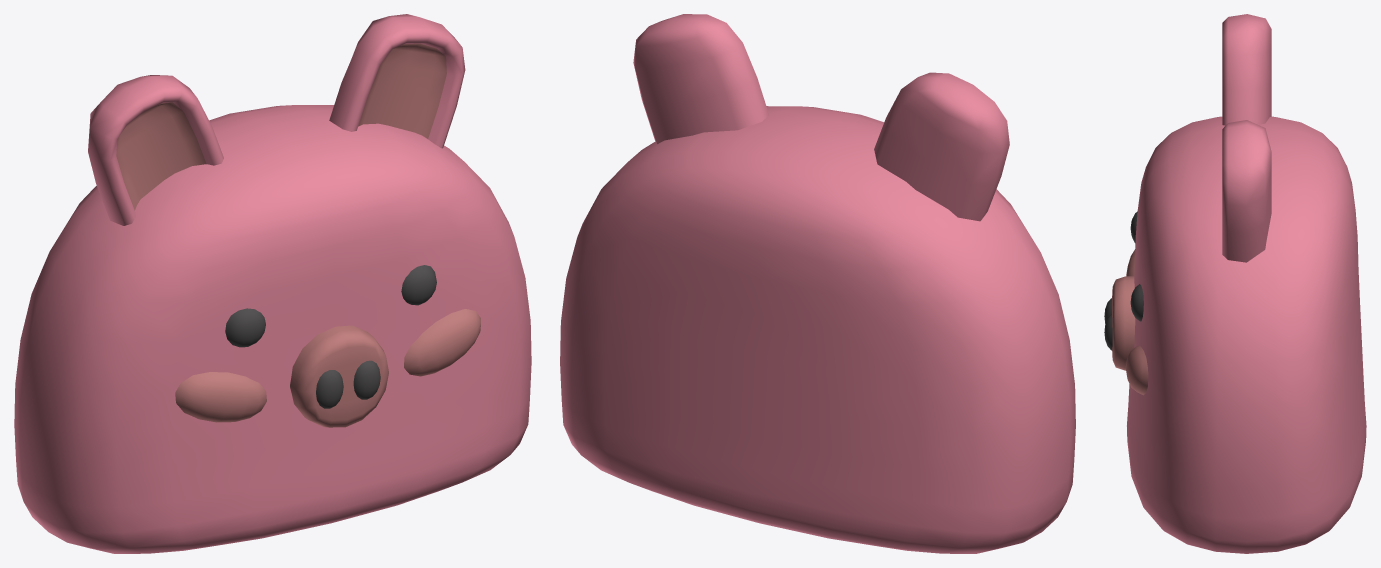
The model's file is Toy_Pig.glb.
3 renders of one model, left to right at view 1: azimuth 30°, elevation 25°; view 2: azimuth 150°, elevation 25°; view 3: azimuth 270°, elevation 25°, orthographic. The views are drawn at different scales.
Visible parts, largest first — view 1: Toy_Pig; view 2: Toy_Pig; view 3: Toy_Pig.
Part boxes in pixels (x1,y1,x2,y2): Toy_Pig: (14,14,531,553); Toy_Pig: (560,14,1075,553); Toy_Pig: (1104,14,1366,553).
Size of the model in its own units: 0.5035 by 0.4586 by 0.2696.
1 material, 1 textured.
